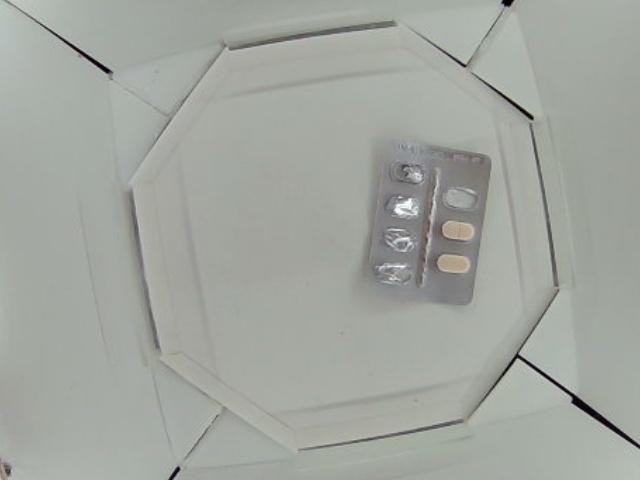Medicine: (367, 139, 491, 307)
